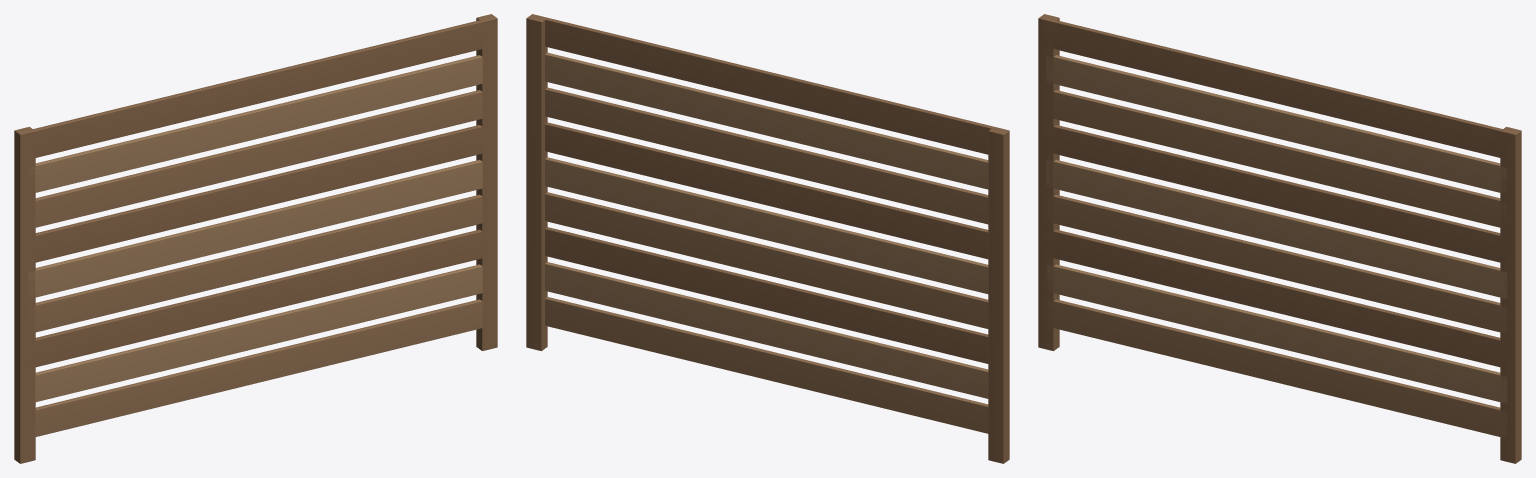
Rendered from original-fence-board.glb.
The picture shows the model from 3 angles, left to right: view 1: azimuth 30°, elevation 25°; view 2: azimuth 150°, elevation 25°; view 3: azimuth 330°, elevation 25°; orthographic projection.
Parts seen in each view (by area): view 1: original-fence-board; view 2: original-fence-board; view 3: original-fence-board.
Part boxes in pixels (box(x1,y1,x2,y2)): original-fence-board: box(14, 14, 497, 463); original-fence-board: box(526, 14, 1009, 463); original-fence-board: box(1038, 14, 1521, 463).
Size of the model in its own units: 1.82 by 1.2 by 0.04.
